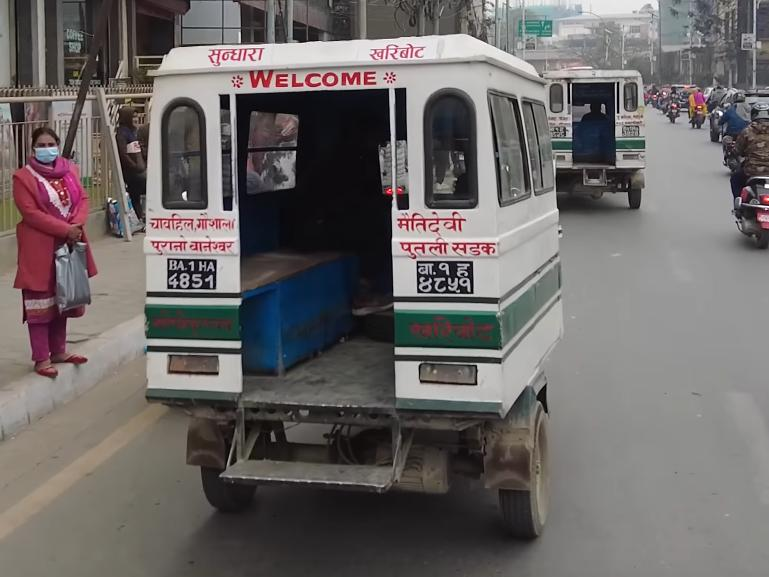scooter: (723, 137, 769, 247)
tempo: (137, 23, 561, 550), (536, 54, 656, 216)
